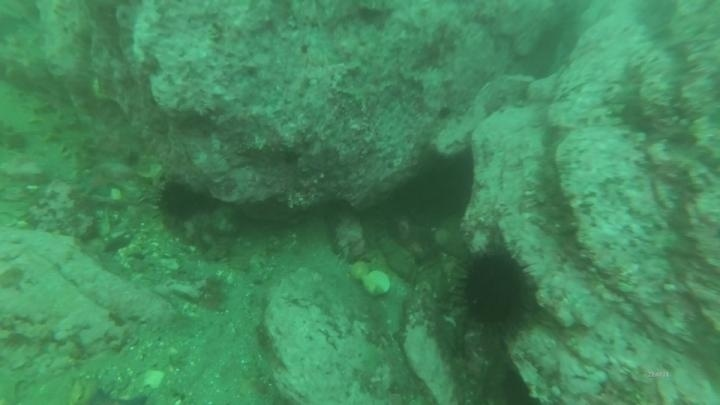echinus: (455, 245, 537, 334), (156, 179, 203, 223)
holothurian: (25, 98, 100, 171)
scallop: (361, 269, 393, 298)
starfish: (76, 169, 120, 199)
